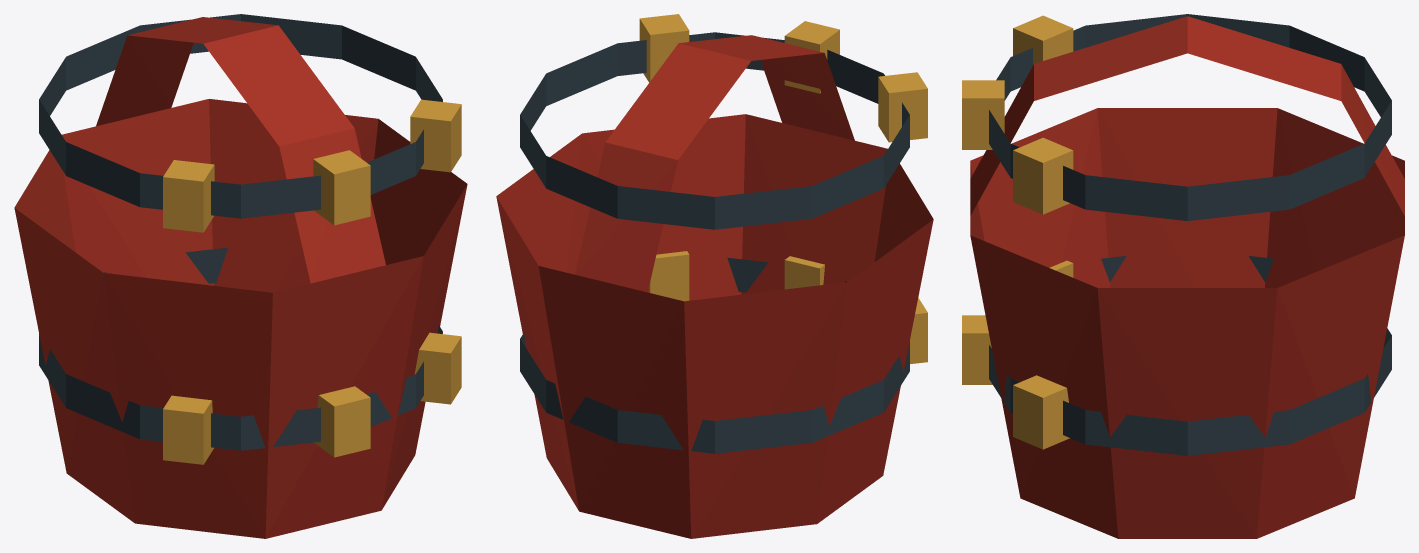
The model's file is bucket-coral.glb.
3 renders of one model, left to right at view 1: azimuth 30°, elevation 25°; view 2: azimuth 150°, elevation 25°; view 3: azimuth 270°, elevation 25°, orthographic. The views are drawn at different scales.
Parts seen in each view (by area): view 1: bucket-coral; view 2: bucket-coral; view 3: bucket-coral.
Boxes of the visible parts, x1,y1,x2,y2 form: bucket-coral: (14, 14, 467, 538); bucket-coral: (496, 14, 933, 538); bucket-coral: (962, 14, 1404, 538).
Bounding box in the file's own units: 0.47 × 0.53 × 0.4891.
